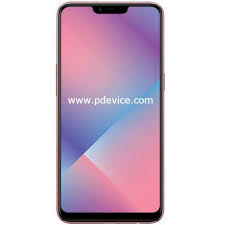oppo: (50, 1, 167, 223)
